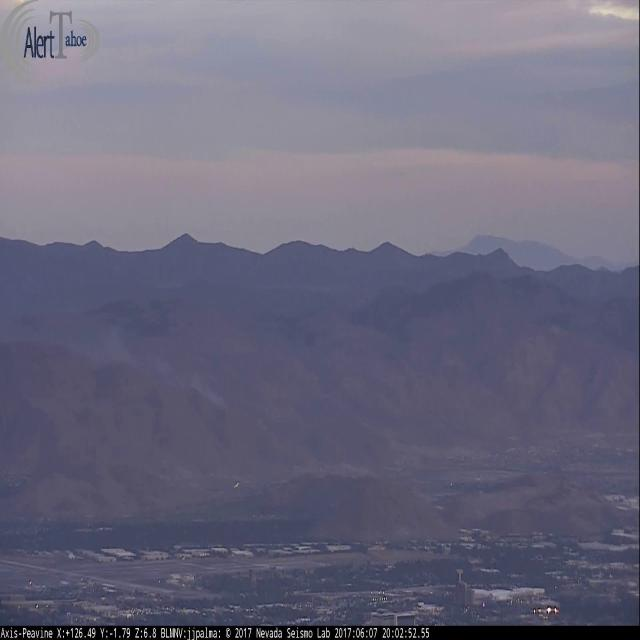smoke: (4, 304, 234, 420)
